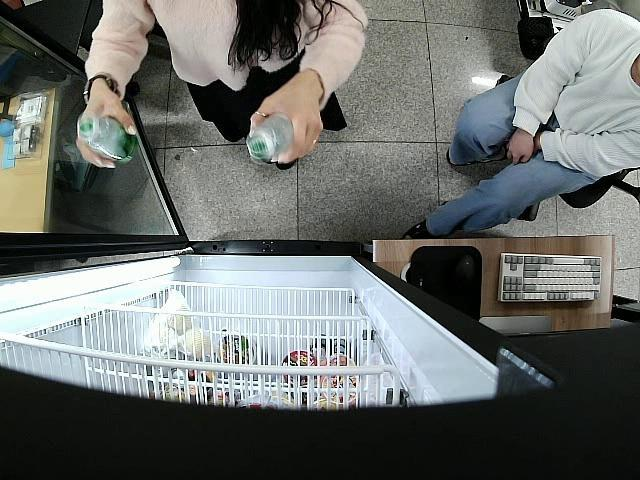18_trevi: (75, 112, 138, 167), (247, 112, 294, 163)
